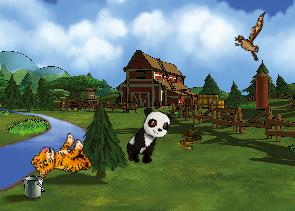eagle: (230, 12, 272, 64)
panda: (121, 103, 175, 170)
tiger: (27, 126, 97, 194)
